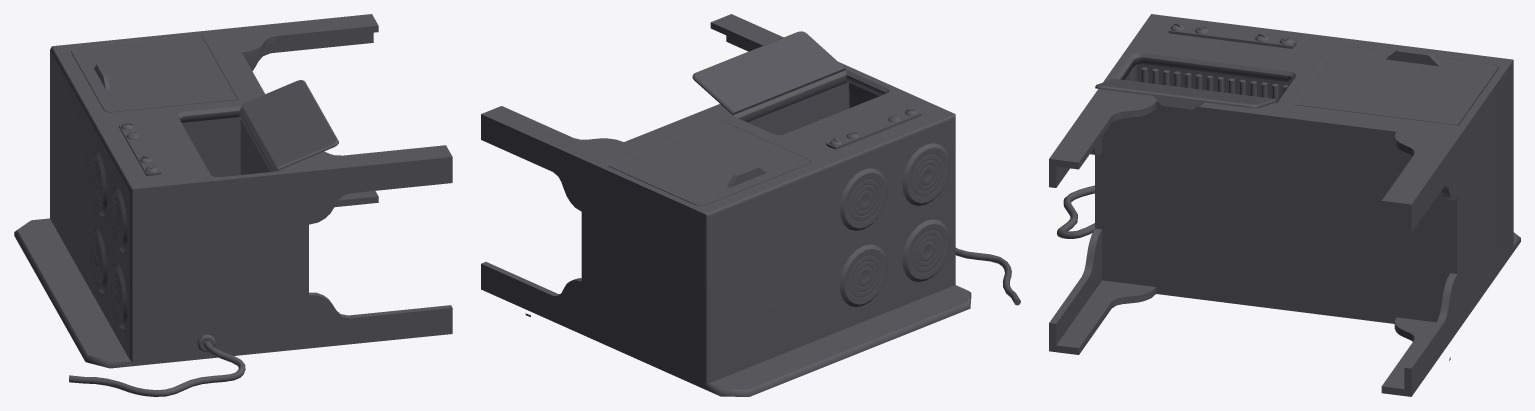
The model's file is Electric.fbx.
The picture shows the model from 3 angles, left to right: view 1: azimuth 30°, elevation 25°; view 2: azimuth 150°, elevation 25°; view 3: azimuth 270°, elevation 25°; orthographic projection. The views are drawn at different scales.
Parts seen in each view (by area): view 1: Electric; view 2: Electric; view 3: Electric.
Boxes of the visible parts, <box> form: Electric: <box>14,14,452,396</box>; Electric: <box>481,14,1020,396</box>; Electric: <box>1049,14,1520,396</box>.
Bounding box in the file's own units: 182 × 81.89 × 161.
